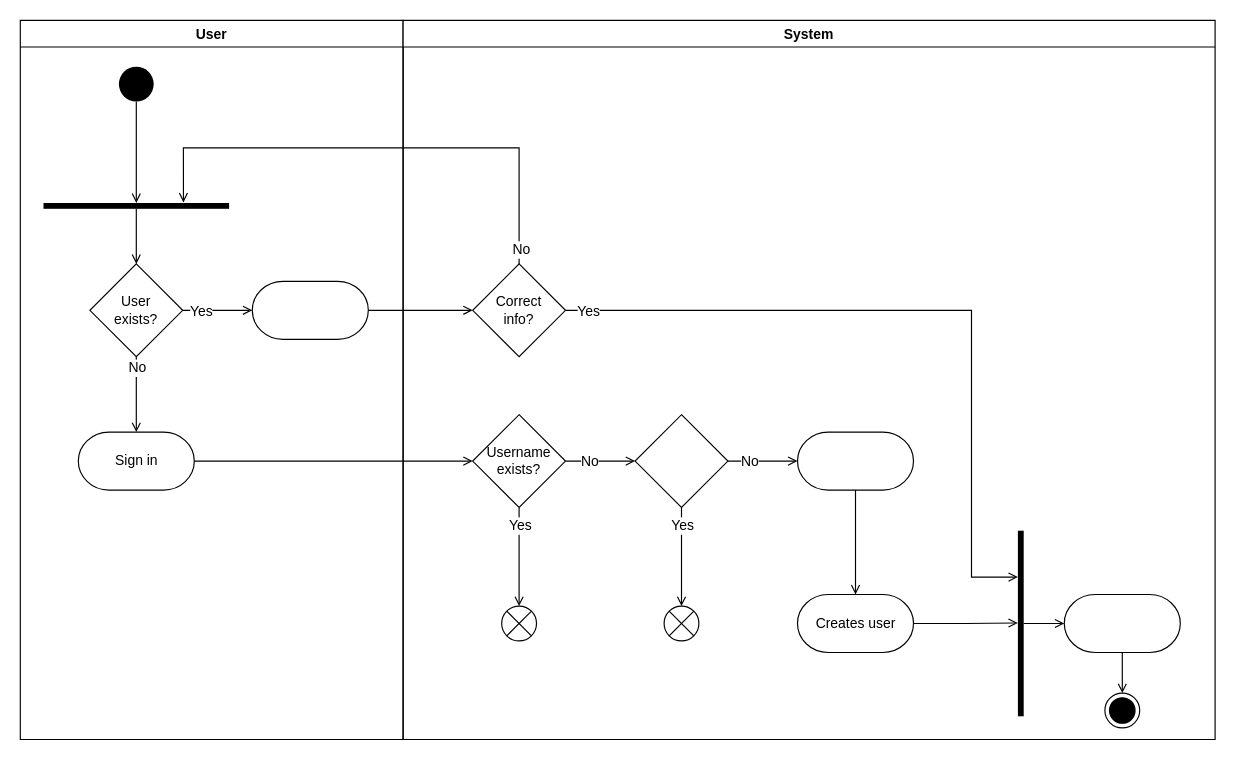
Image size: 1235x760. Some labels were removed from this diagram. The shapes that lost their labels are listed below. From the top down, each one's centre as x and y in pixels, then its label:
At (309,309): "Log in".
At (681,460): "Email exists?".
At (854,460): "Creates authentication".
At (1121,622): "Logs in".
